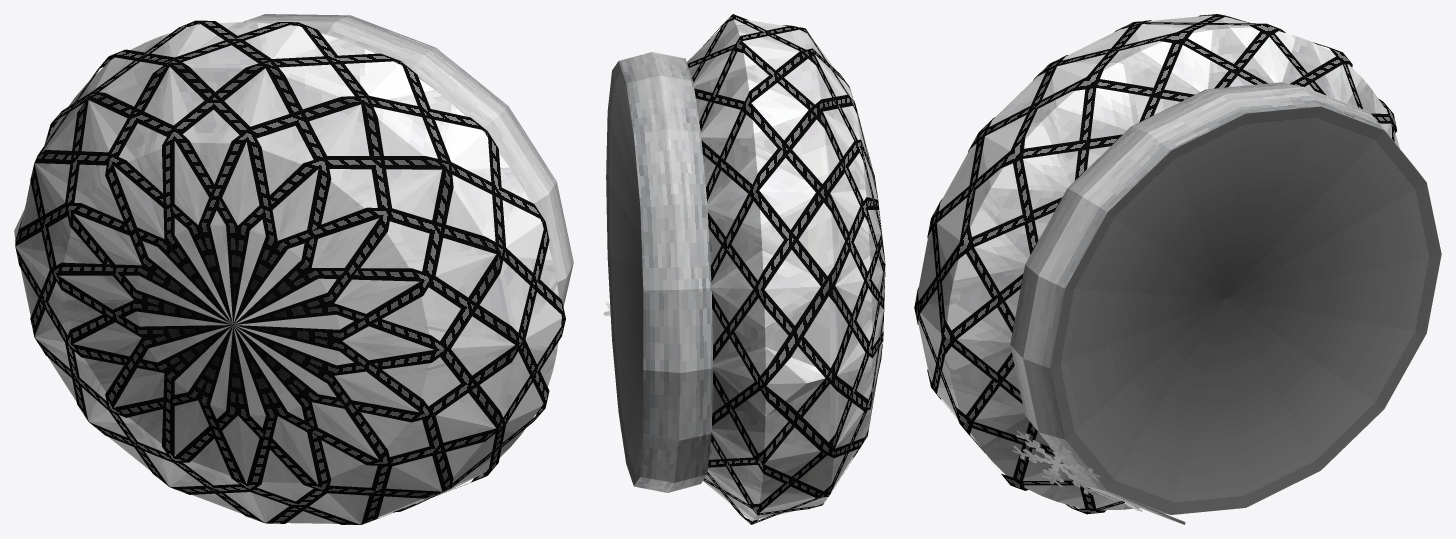
Rendered from options647.obj.
The picture shows the model from 3 angles, left to right: view 1: azimuth 30°, elevation 25°; view 2: azimuth 150°, elevation 25°; view 3: azimuth 270°, elevation 25°; orthographic projection. The views are drawn at different scales.
Parts seen in each view (by area): view 1: options647; view 2: options647; view 3: options647.
Boxes of the visible parts, left/top/right/bottom form: options647: left=14, top=14, right=573, bottom=524; options647: left=602, top=14, right=885, bottom=524; options647: left=914, top=14, right=1441, bottom=524.
Size of the model in its own units: 0.4664 by 0.5402 by 0.5453.
Materials: 2 (2 with a texture image).
